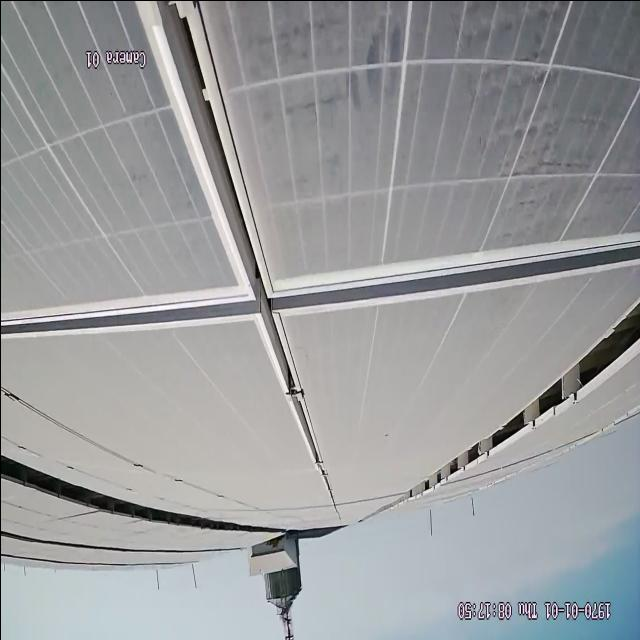interior panel: (0, 7, 639, 499)
outher panel: (404, 296, 640, 500), (2, 446, 266, 531)
